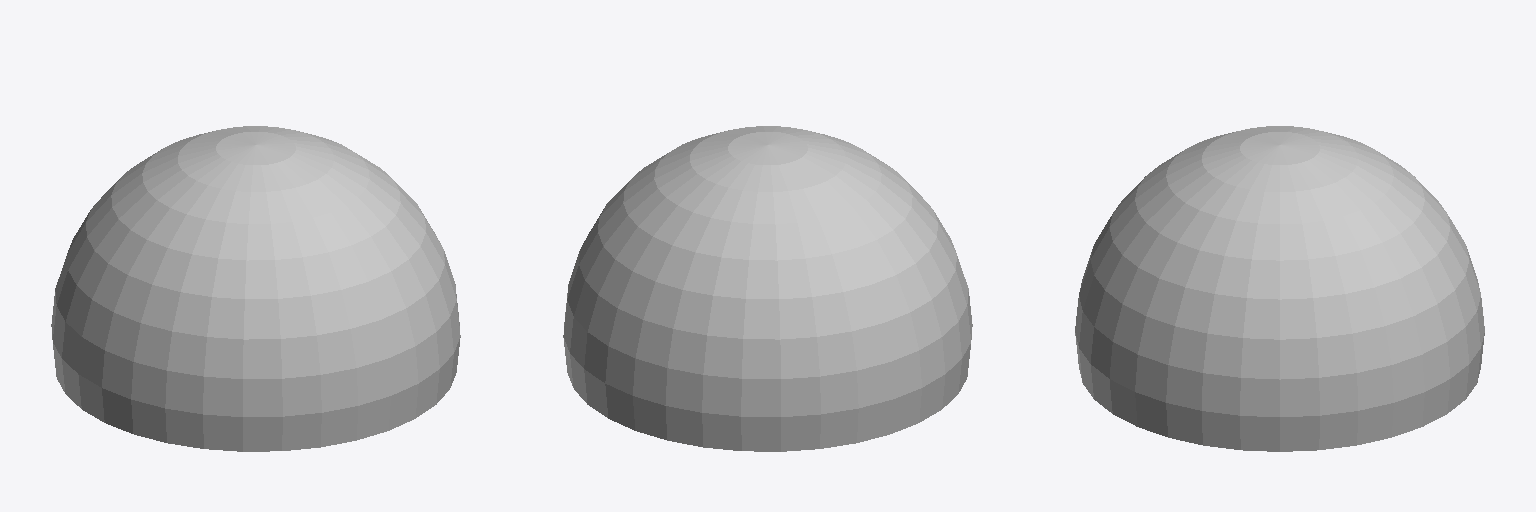
The model's file is sky.obj.
3 renders of one model, left to right at view 1: azimuth 30°, elevation 25°; view 2: azimuth 150°, elevation 25°; view 3: azimuth 270°, elevation 25°, orthographic.
Visible parts, largest first — view 1: Sphere; view 2: Sphere; view 3: Sphere.
Boxes of the visible parts, box(x1,y1,x2,y2) form: Sphere: box(51, 126, 460, 451); Sphere: box(563, 126, 972, 451); Sphere: box(1075, 126, 1484, 451).
Bounding box in the file's own units: 2 × 1.2 × 2.